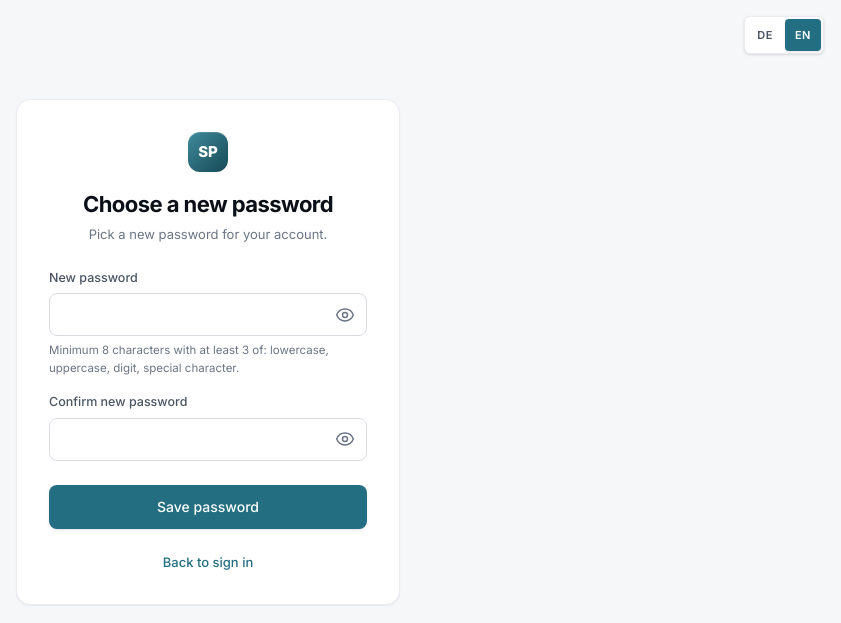
Test: ResetPasswordPage › switches to the invalid-link card when the server rejects the token
Type "Test1234!" into the password field labelled "New password" at coordinates (208, 315), box left=49, top=293, right=367, bottom=336
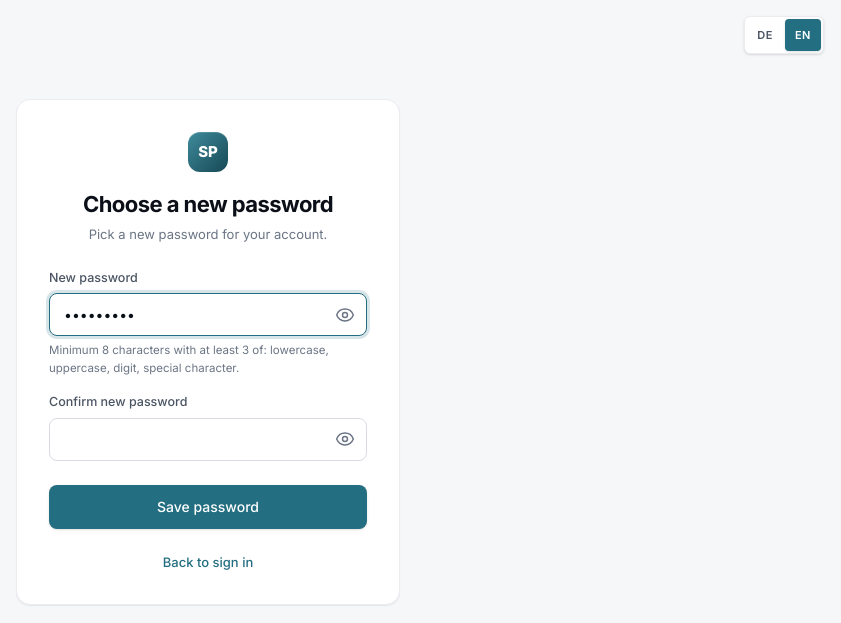
Type "Test1234!" into the password field labelled "Confirm new password" at coordinates (208, 439), box left=49, top=418, right=367, bottom=460
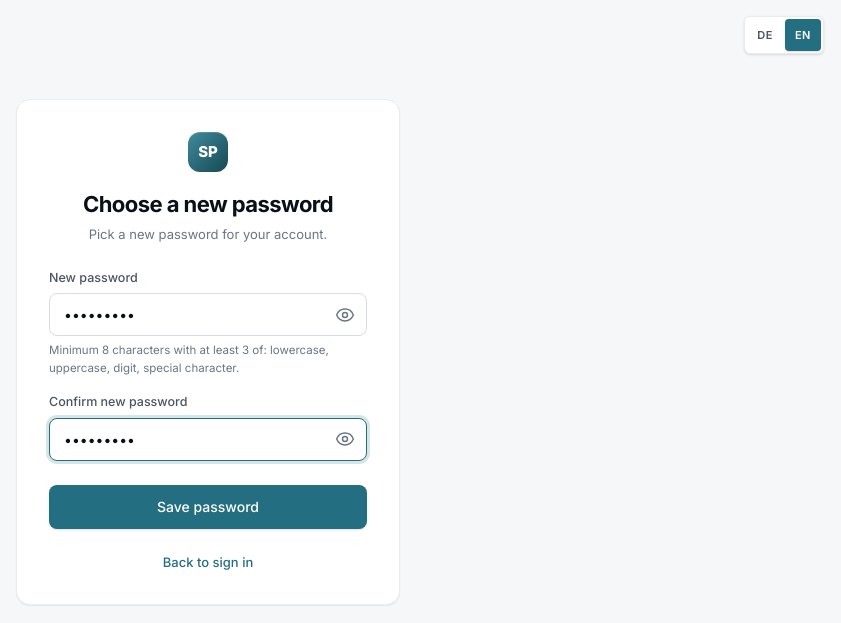
Click the button "Save password" at coordinates (208, 506), box left=49, top=484, right=367, bottom=528
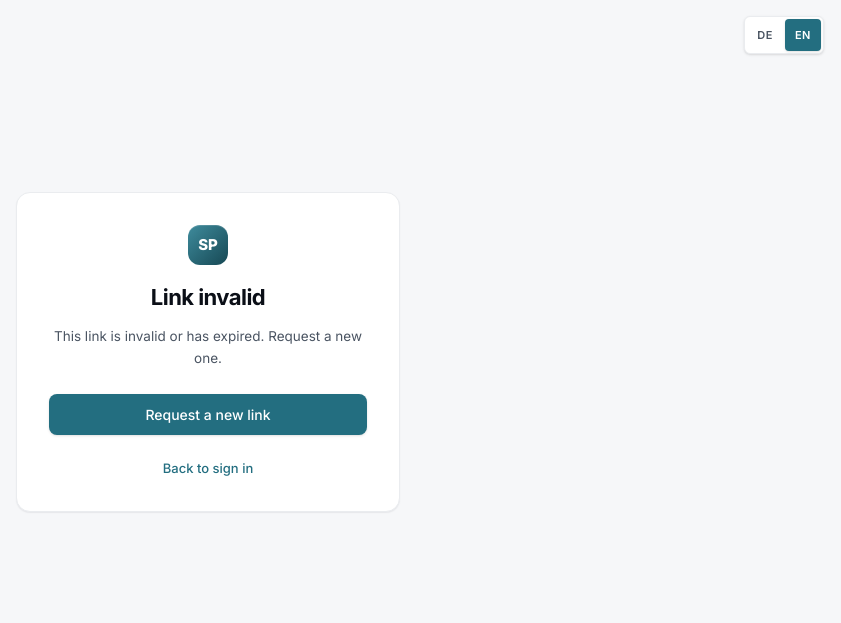
Expected: the heading "Link invalid" is shown, left=151, top=284, right=265, bottom=310
